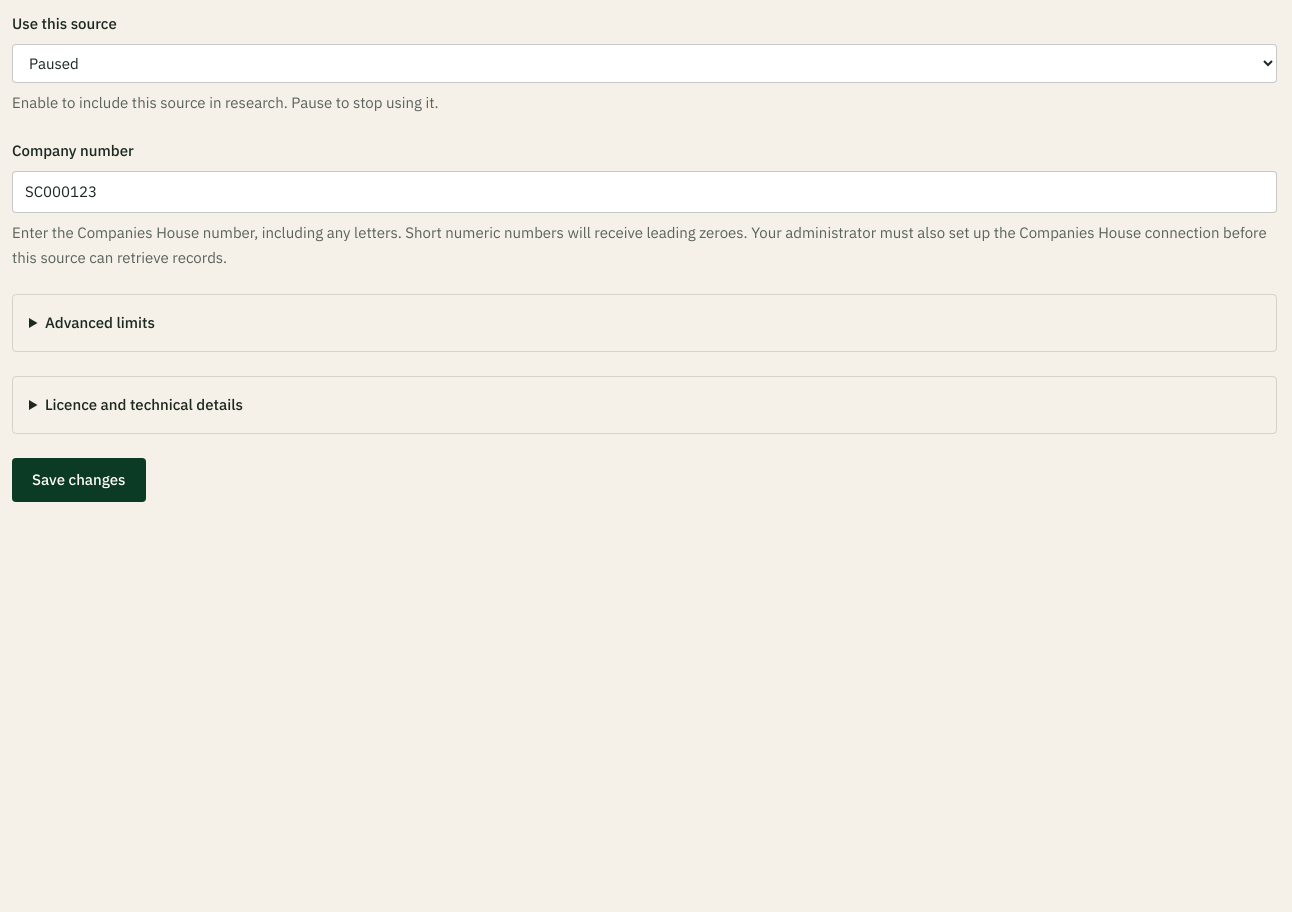
SourceConfiguration › rejects invalid GBP input  and reveals the control
The width and height of the screenshot is (1292, 912).
Click the button "Save changes": (79, 480) [12,458,146,502]
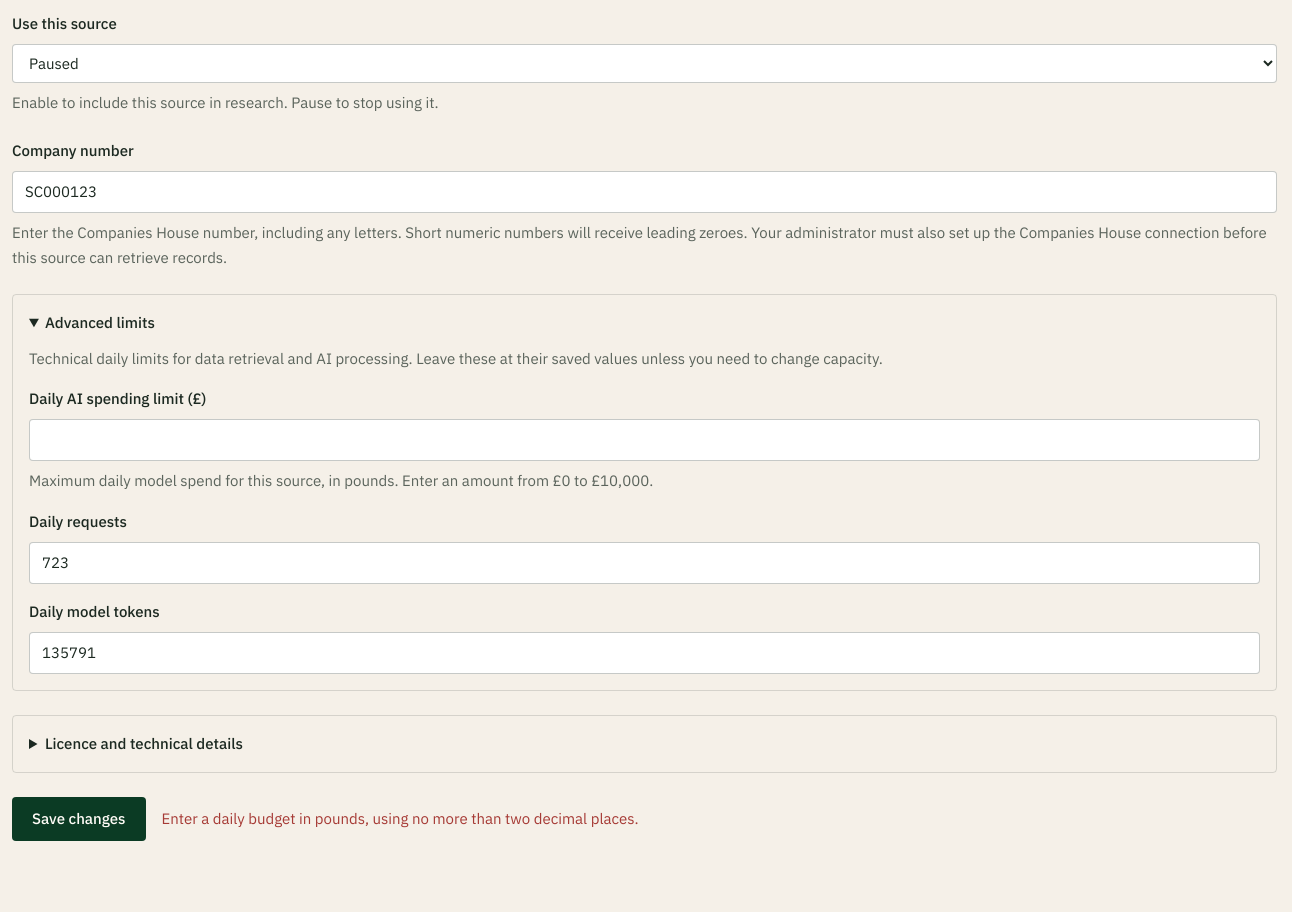
Now the message shows "daily budget", box [162,808,638,828]
